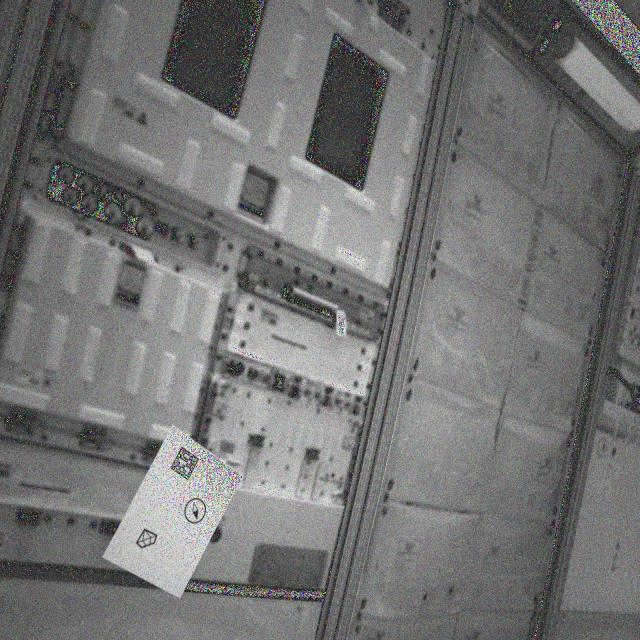compass: (180, 495, 213, 532)
diamond: (135, 524, 160, 552)
